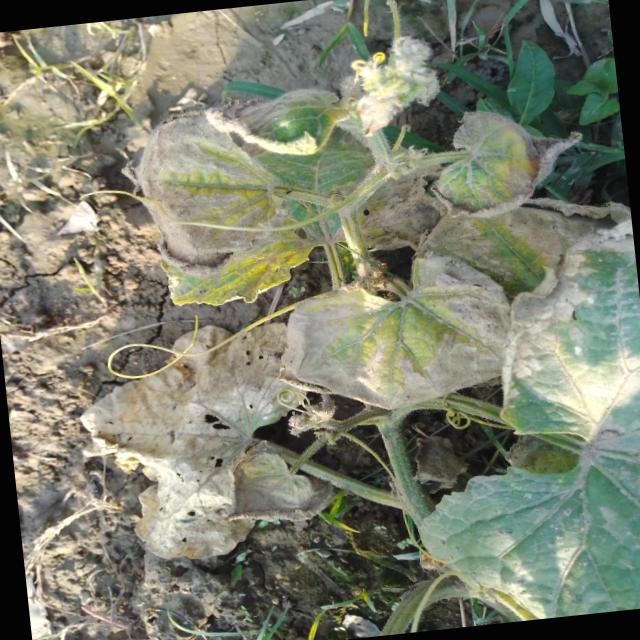cucumber_bacterial: (395, 216, 640, 630), (272, 229, 544, 442), (95, 317, 317, 563), (140, 76, 334, 304), (406, 112, 540, 246)
